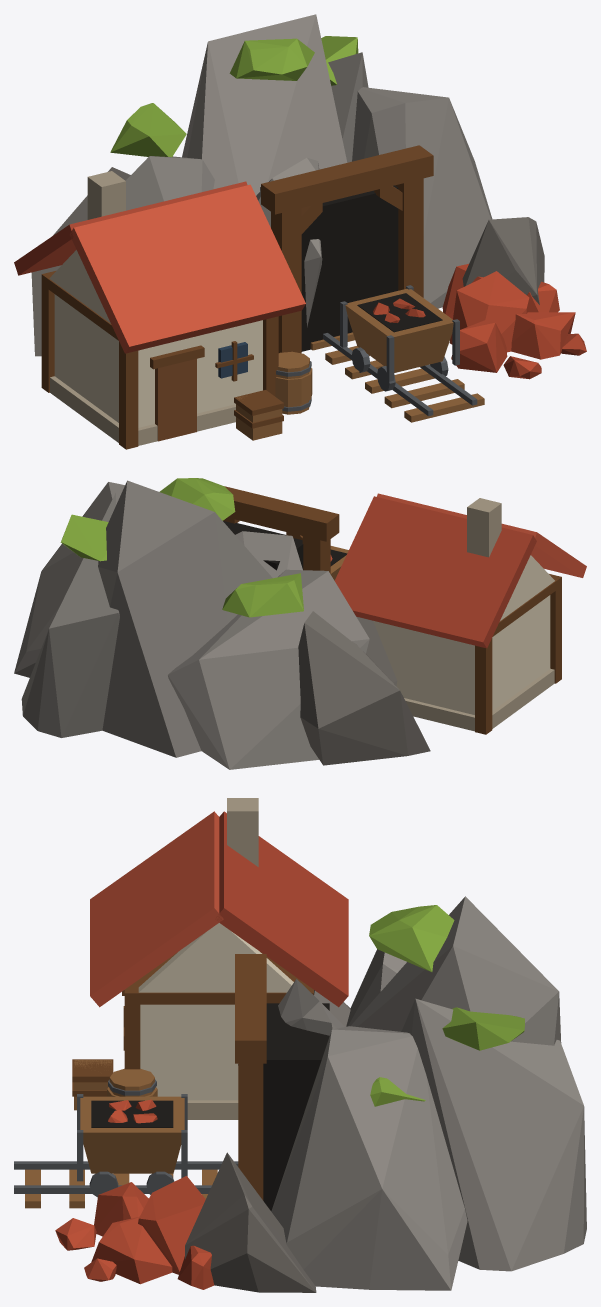
File: mine_ore.glb
3 renders of one model, top to bottom at view 1: azimuth 30°, elevation 25°; view 2: azimuth 150°, elevation 25°; view 3: azimuth 270°, elevation 25°, orthographic. The views are drawn at different scales.
Visible parts, largest first — view 1: mine_ore_fels, mine_ore_dach, mine_ore_balken, mine_ore_stein, mine_ore_dunkel, mine_ore_erz, mine_ore_holz, mine_ore_gras, mine_ore_fels_dunkel, mine_ore_stein_dunkel, mine_ore_eisen, mine_ore_tuer (+2 smaller); view 2: mine_ore_fels, mine_ore_dach_dunkel, mine_ore_fels_dunkel, mine_ore_stein, mine_ore_balken, mine_ore_gras, mine_ore_stein_dunkel, mine_ore_dach, mine_ore_dunkel; view 3: mine_ore_fels, mine_ore_dach, mine_ore_stein, mine_ore_dach_dunkel, mine_ore_erz, mine_ore_balken, mine_ore_fels_dunkel, mine_ore_dunkel, mine_ore_holz, mine_ore_gras, mine_ore_eisen, mine_ore_stein_dunkel.
Boxes of the visible parts, x1,y1,x2,y2 form: mine_ore_fels: [126, 14, 492, 327]; mine_ore_dach: [70, 184, 305, 353]; mine_ore_balken: [41, 145, 433, 449]; mine_ore_stein: [49, 250, 262, 427]; mine_ore_dunkel: [260, 185, 442, 351]; mine_ore_erz: [373, 264, 586, 379]; mine_ore_holz: [236, 288, 484, 440]; mine_ore_gras: [110, 36, 358, 157]; mine_ore_fels_dunkel: [31, 167, 544, 356]; mine_ore_stein_dunkel: [50, 171, 235, 445]; mine_ore_eisen: [276, 285, 477, 416]; mine_ore_tuer: [155, 359, 196, 441]; mine_ore_fels: [14, 480, 369, 769]; mine_ore_dach_dunkel: [334, 496, 536, 648]; mine_ore_fels_dunkel: [298, 611, 430, 765]; mine_ore_stein: [373, 555, 554, 714]; mine_ore_balken: [223, 486, 561, 734]; mine_ore_gras: [60, 478, 303, 617]; mine_ore_stein_dunkel: [404, 498, 554, 731]; mine_ore_dach: [377, 493, 586, 577]; mine_ore_dunkel: [223, 521, 347, 570]; mine_ore_fels: [238, 896, 586, 1290]; mine_ore_dach: [90, 811, 223, 1007]; mine_ore_stein: [138, 923, 293, 1100]; mine_ore_dach_dunkel: [215, 811, 348, 1007]; mine_ore_erz: [55, 1099, 214, 1289]; mine_ore_balken: [72, 952, 313, 1200]; mine_ore_fels_dunkel: [185, 990, 350, 1292]; mine_ore_dunkel: [91, 1003, 329, 1210]; mine_ore_holz: [25, 1060, 217, 1208]; mine_ore_gras: [369, 905, 524, 1106]; mine_ore_eisen: [14, 1079, 238, 1197]; mine_ore_stein_dunkel: [187, 798, 258, 1119].
Bounding box in the file's own units: 3.98 × 1.93 × 3.63.
